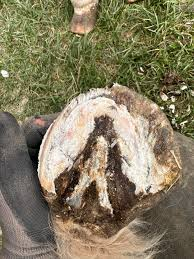horsesole: (37, 88, 181, 212)
